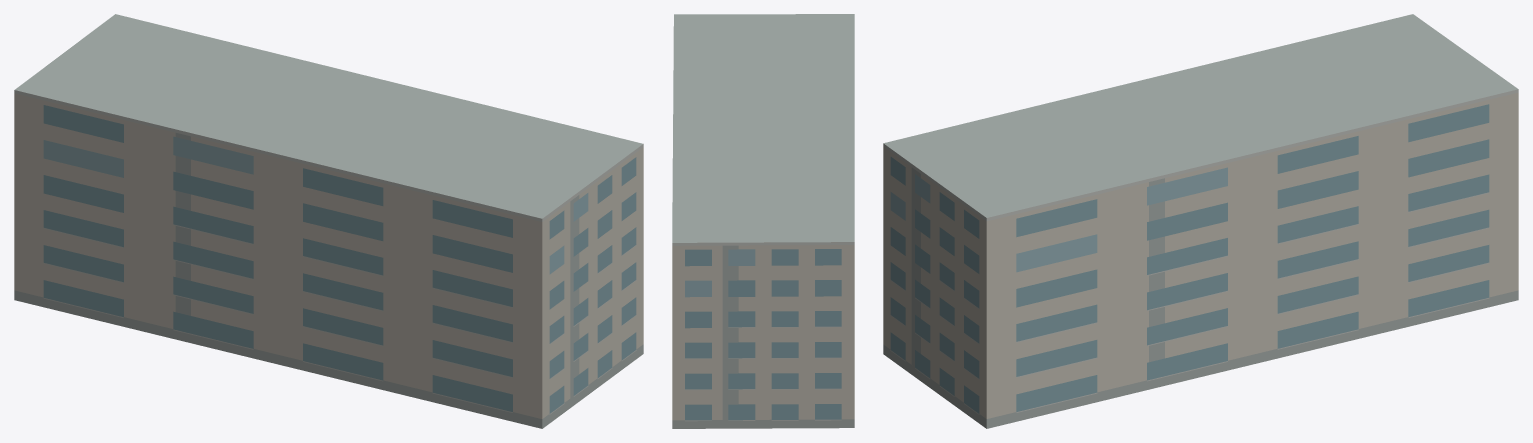
The model's file is survey-upis-32721115.glb.
3 views of the same model, side by side, from view 1: azimuth 30°, elevation 25°; view 2: azimuth 150°, elevation 25°; view 3: azimuth 270°, elevation 25° (orthographic). The views are drawn at different scales.
Parts seen in each view (by area): view 1: survey-upis-32721115.tmp; view 2: survey-upis-32721115.tmp; view 3: survey-upis-32721115.tmp.
Part boxes in pixels (x1,y1,x2,y2): survey-upis-32721115.tmp: (14, 14, 643, 428); survey-upis-32721115.tmp: (672, 14, 854, 428); survey-upis-32721115.tmp: (883, 14, 1518, 428).
Bounding box in the file's own units: 32.07 × 15.45 × 42.19.
